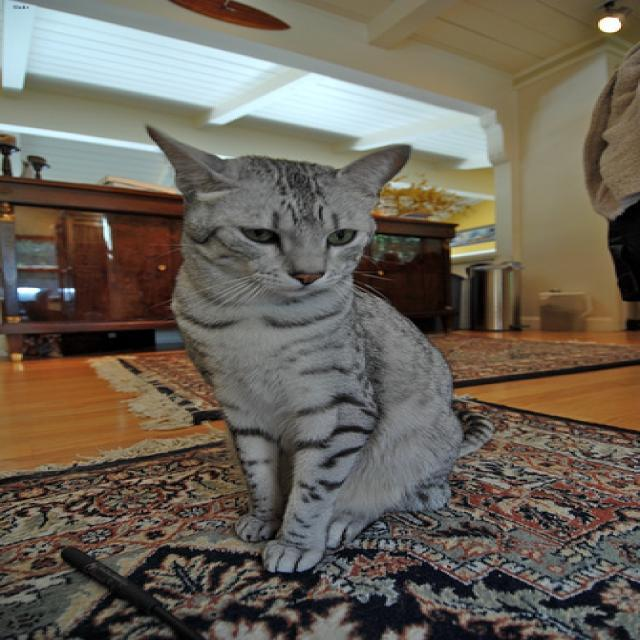Egyptian_Mau: (136, 118, 418, 302)
